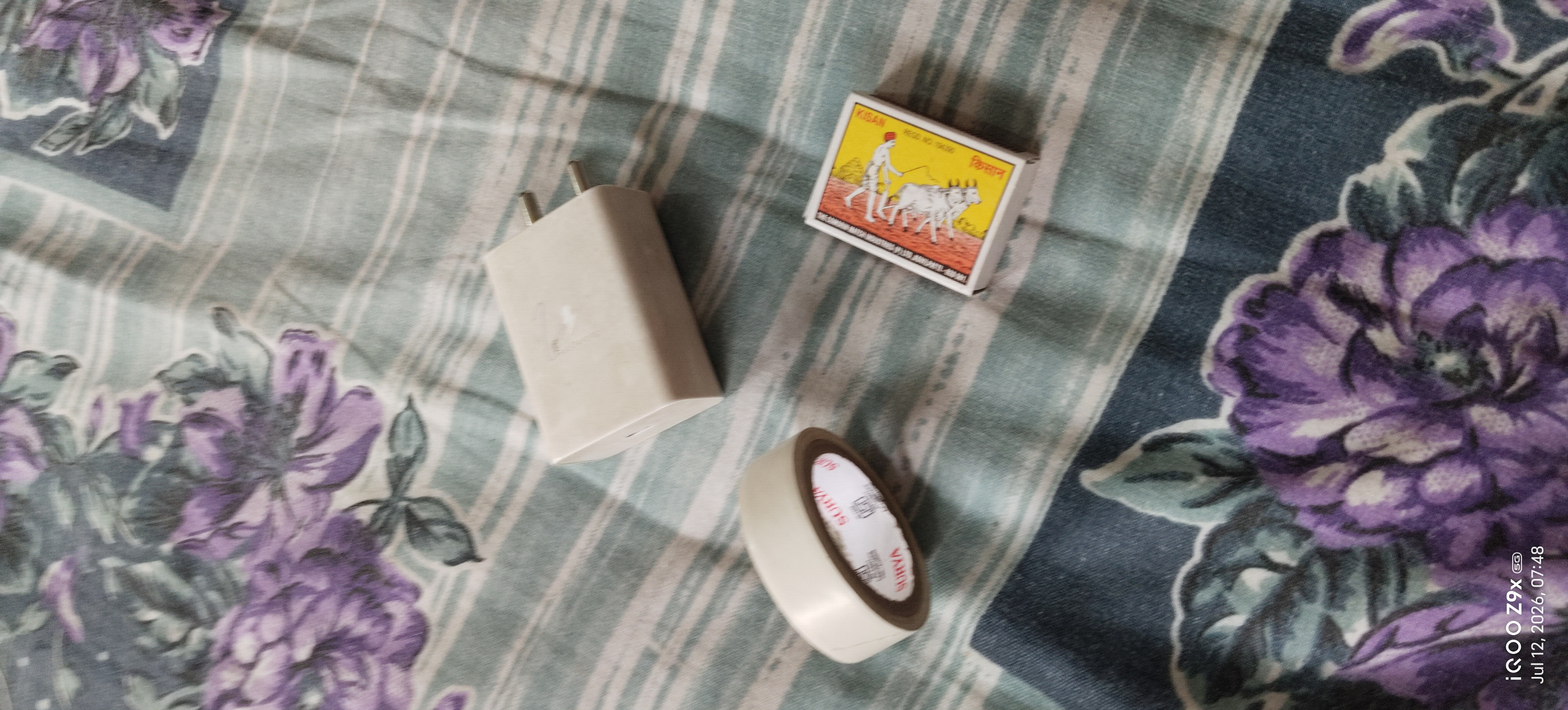charger: (455, 152, 730, 481)
matchbox: (793, 69, 1052, 334)
tape_roll: (727, 400, 938, 710)
